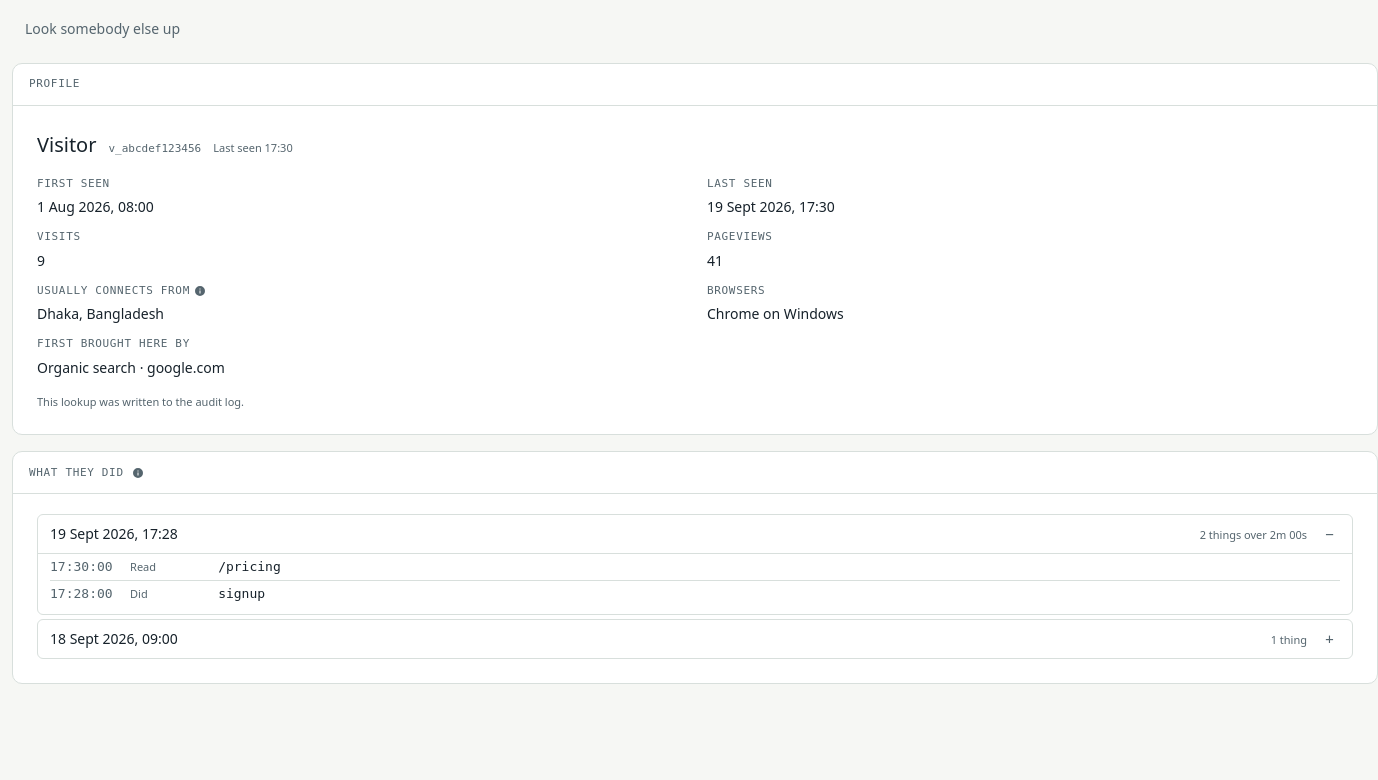
Scenario: People, one profile › offers the way back to the lookup
Click the button "Look somebody else up".
click(102, 29)  # box [12,12,193,47]
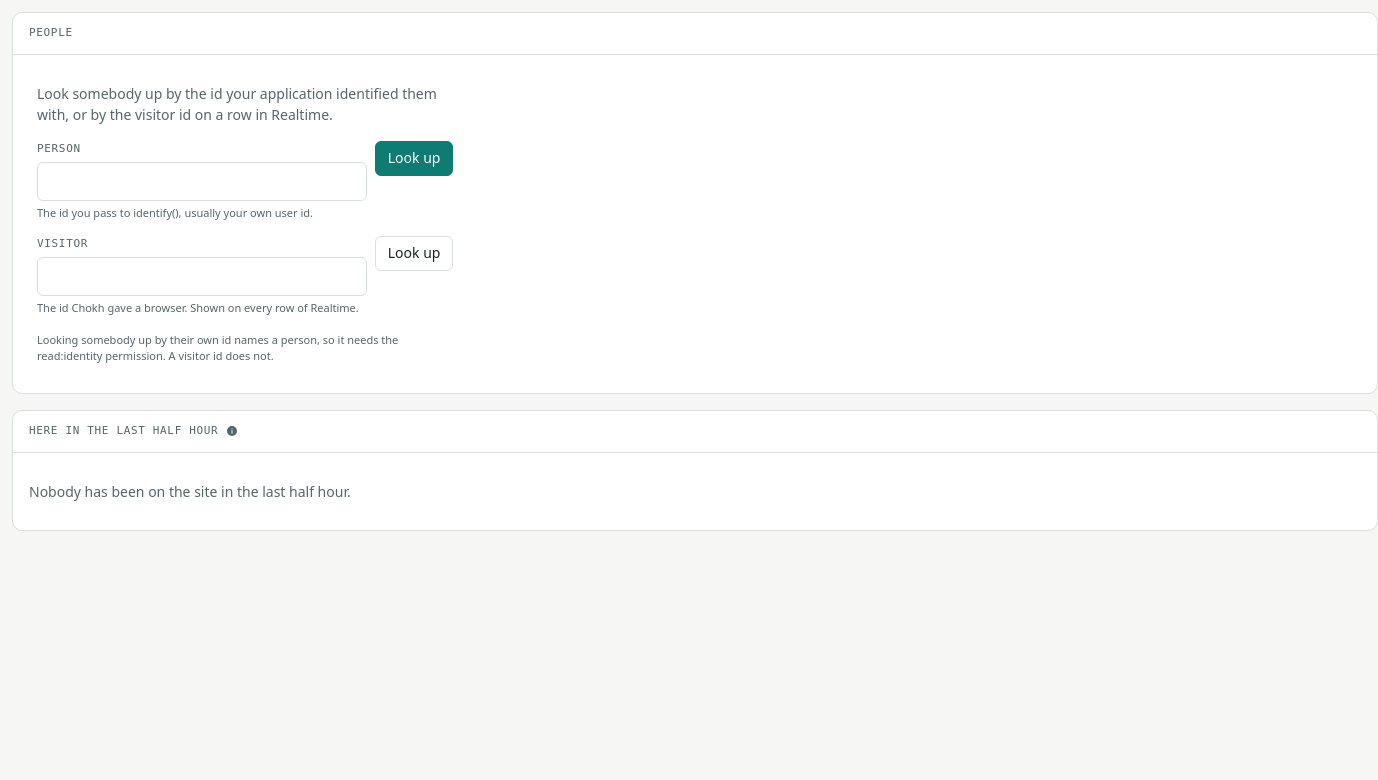
Expected: the element "People" is shown, [12,12,1377,394]
